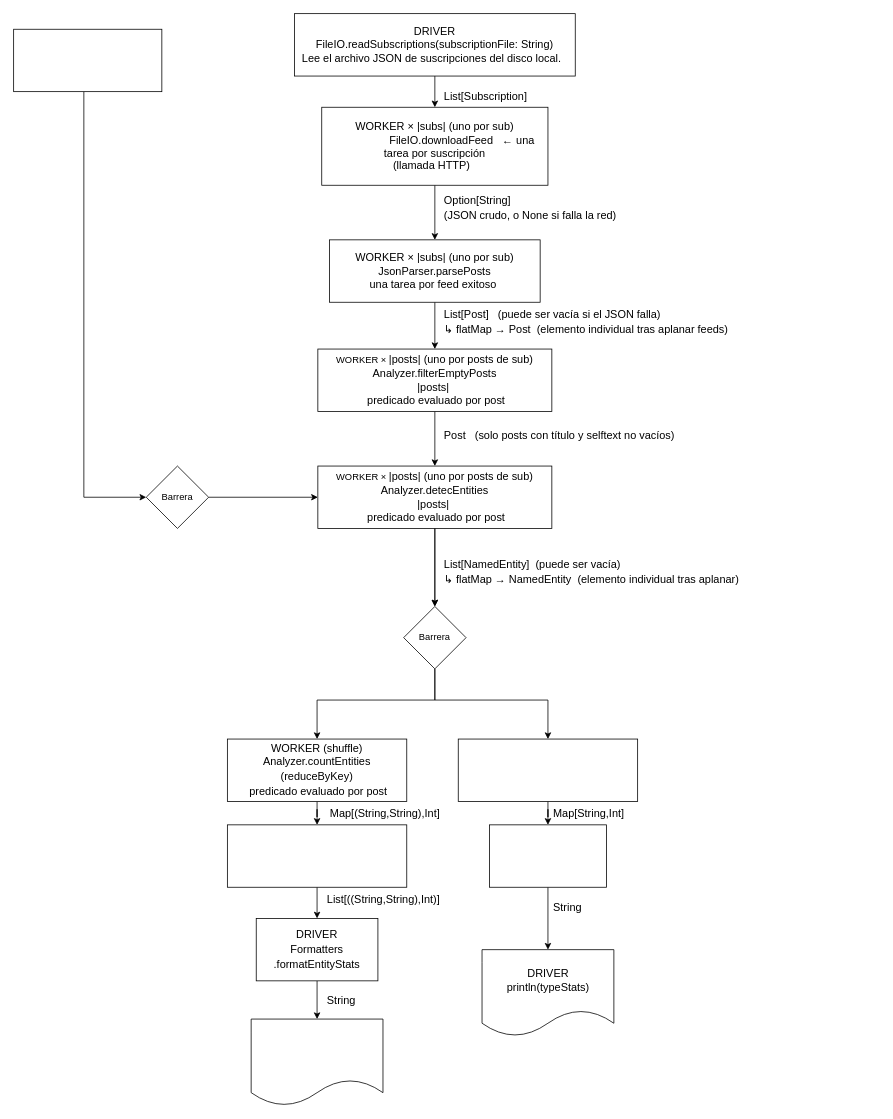
This 893x1119 diagram has some shape labels left out. The shapes that lost their labels are listed below. From the top down, each one's centre as x and y in pixels, then its label:
At point (87, 60): "DRIVER Dictionary.loadAll Lee archivos .txt del sistema de archivos.".
At point (547, 769): "WORKERS (shuffle) Analyzer.countByType (reduceByKey) predicado evaluado por post".
At point (317, 855): "WORKER (shuffle) .sortBy + .take(K) (ordenamiento global)".
At point (547, 855): "DRIVER Formatters .formatTypeStats".
At point (316, 1062): "DRIVER println( entityStats )".
